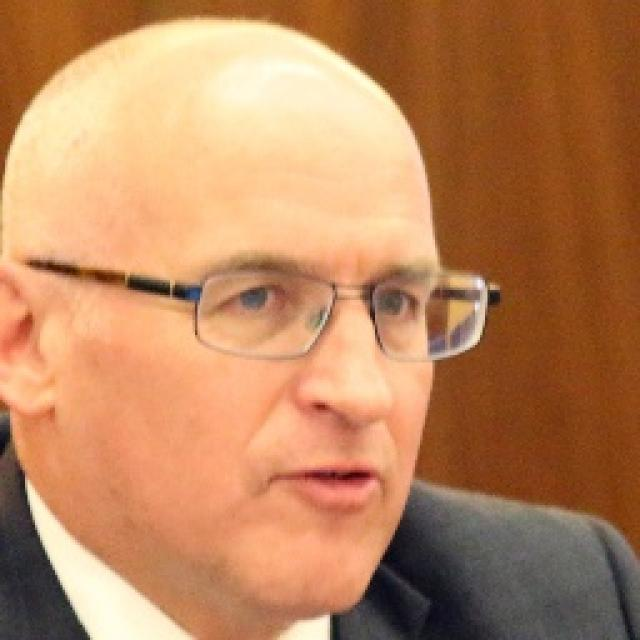earlobe: (0, 262, 57, 415)
